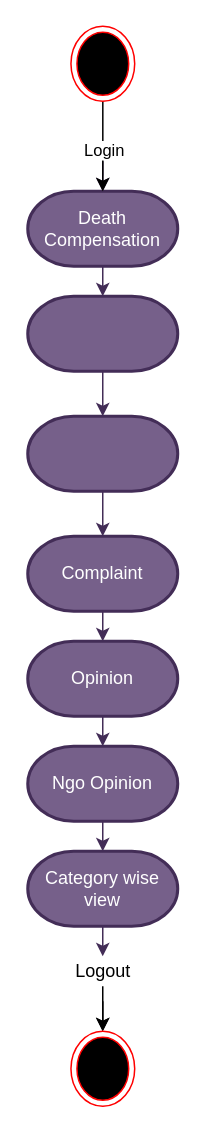
The diagram is 204 pixels wide and 1133 high, and some of its shapes have lost their labels. Here are the shapes that lost their labels. From the top down, the centre of each, then its label:
At point (102, 333): "Death compensation approved".
At point (102, 453): "Fund Transactions".
